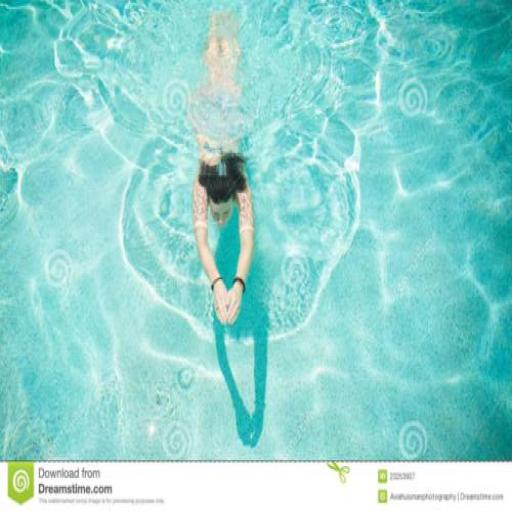swimming: (188, 132, 272, 450)
